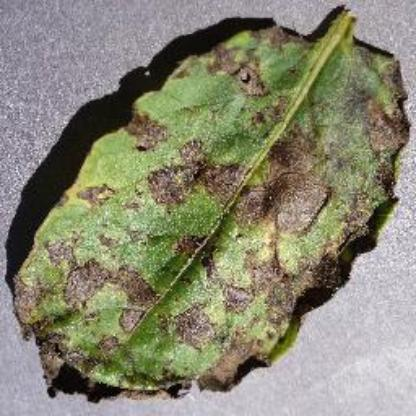Early-Blight: (13, 7, 413, 403)
